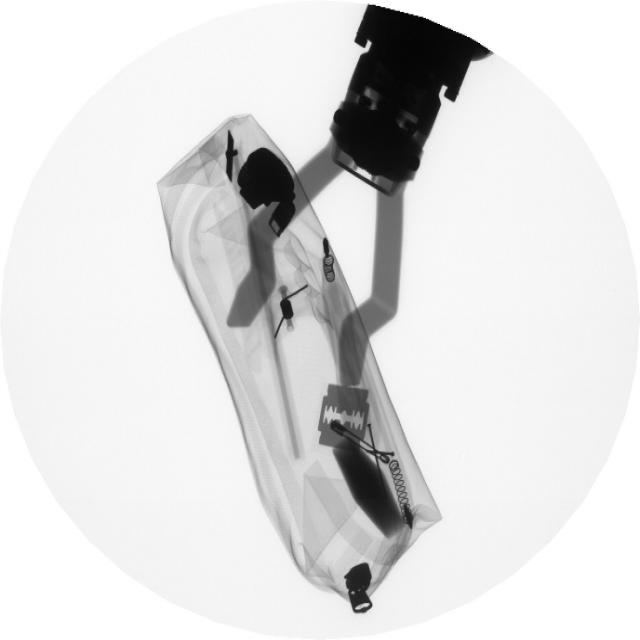BLADE: (313, 376, 383, 467)
